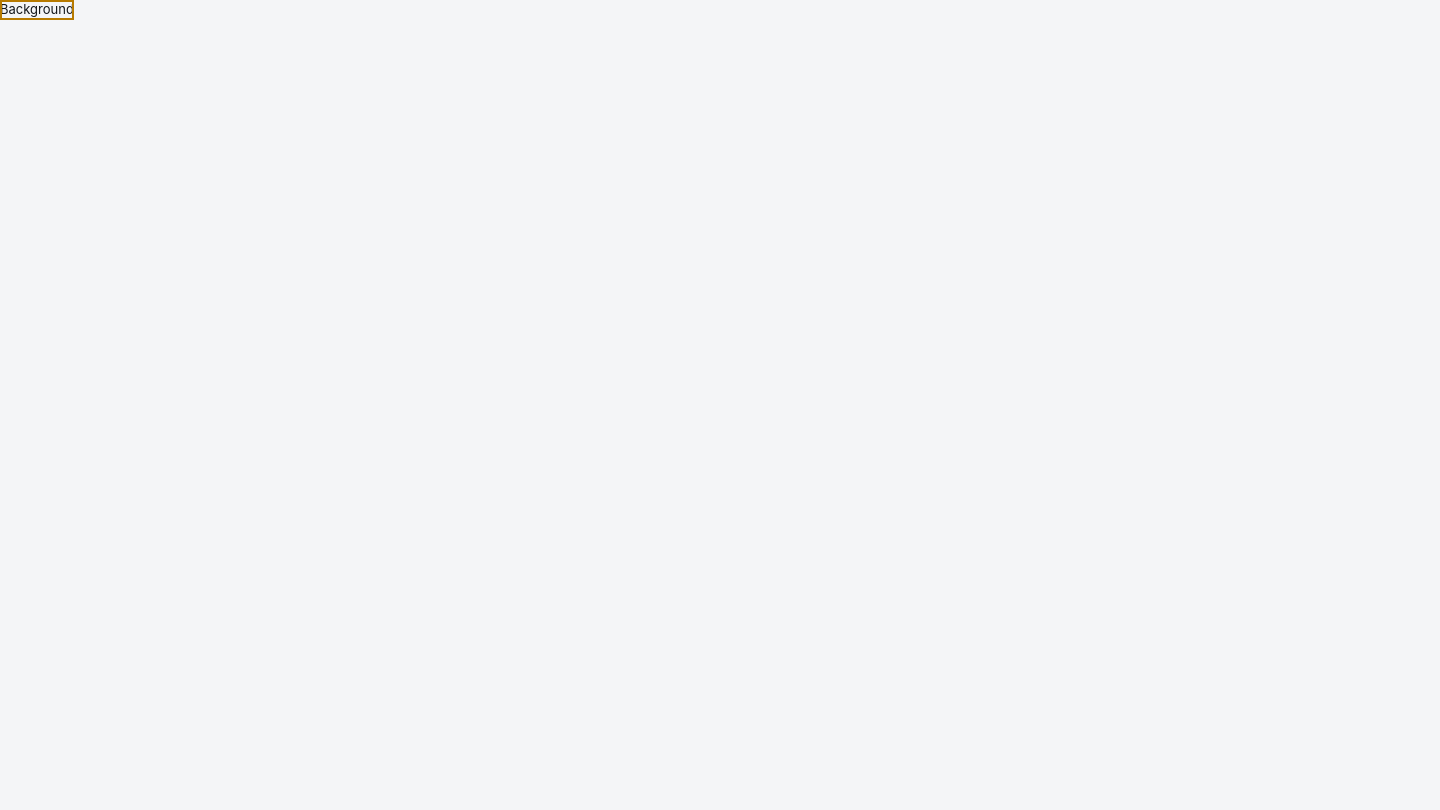
it: keyboard navigation › opens and searches the palette from the keyboard and returns focus on Escape
The image size is (1440, 810).
Press k
Press K
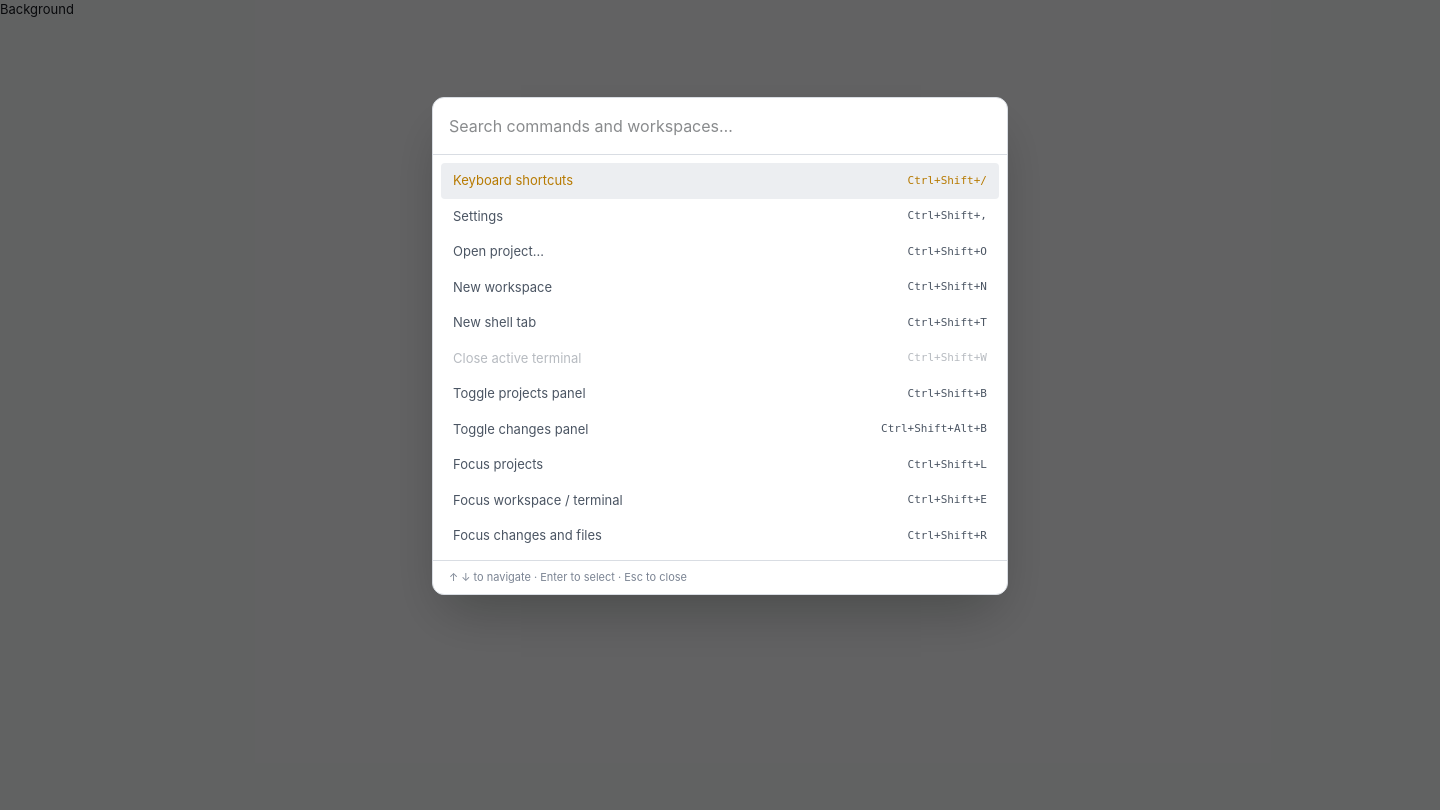
Type "demo" into the dropdown at coordinates (720, 127), box [433,98,1007,155]
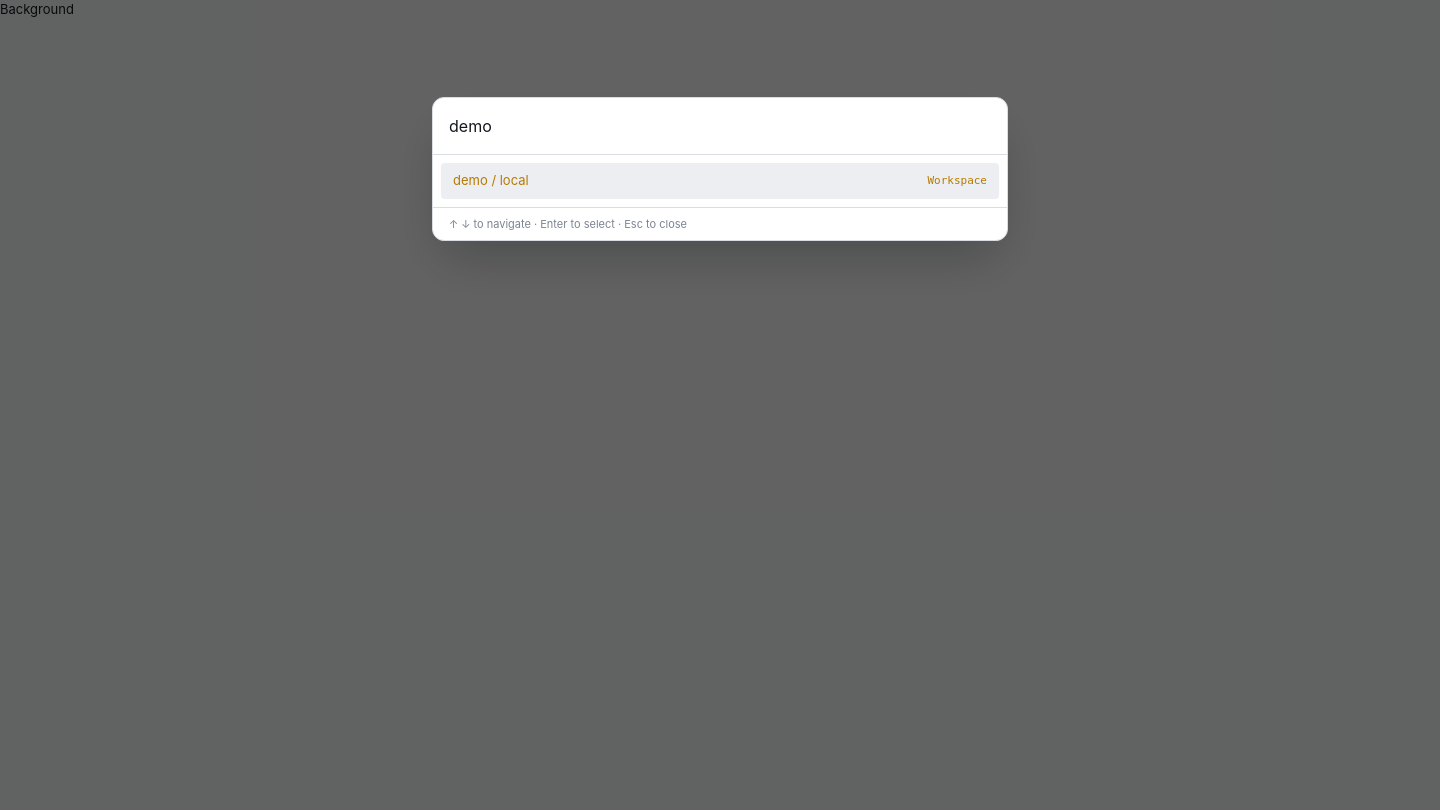
Check: the number of options is 1, box [441,163,999,199]
Press Enter
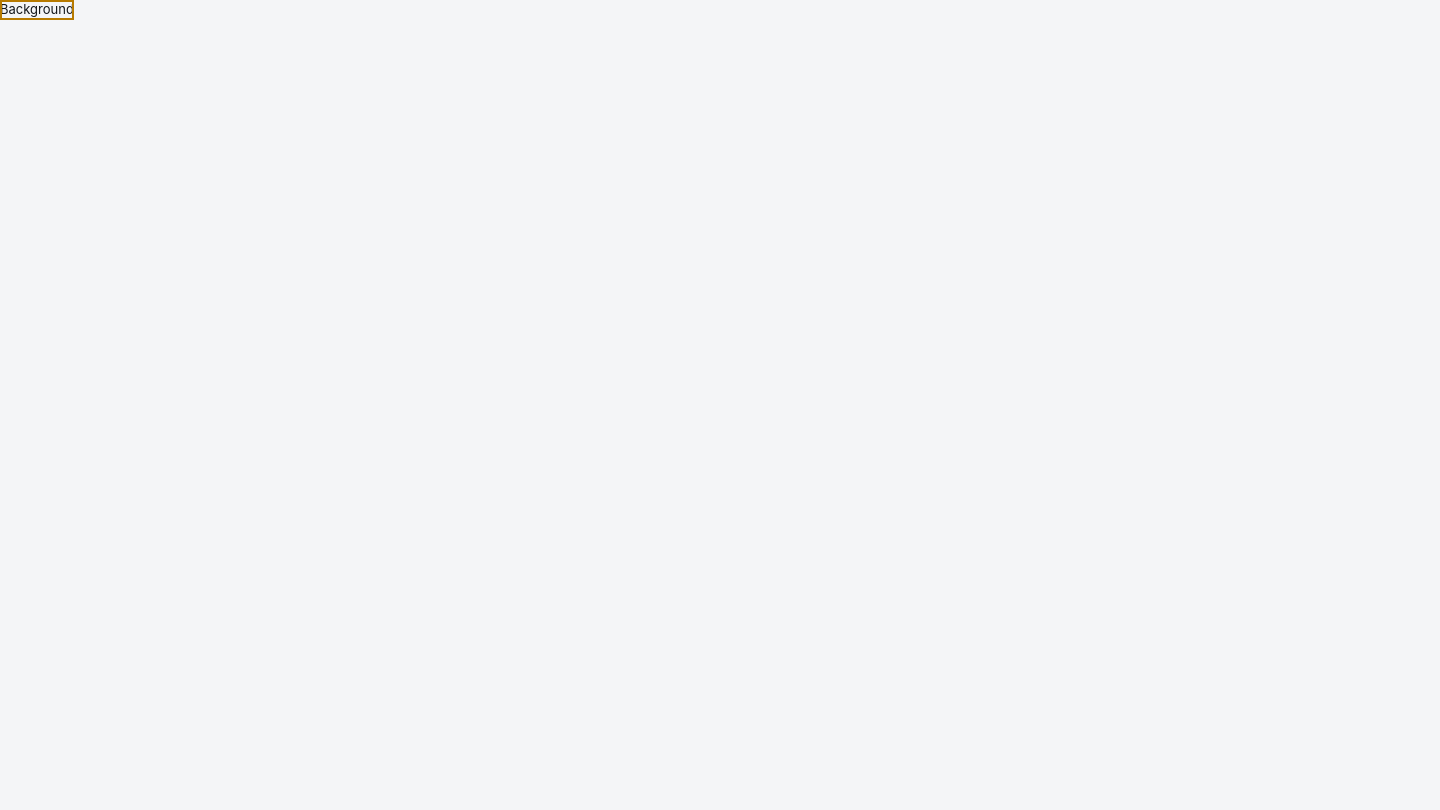
Press K
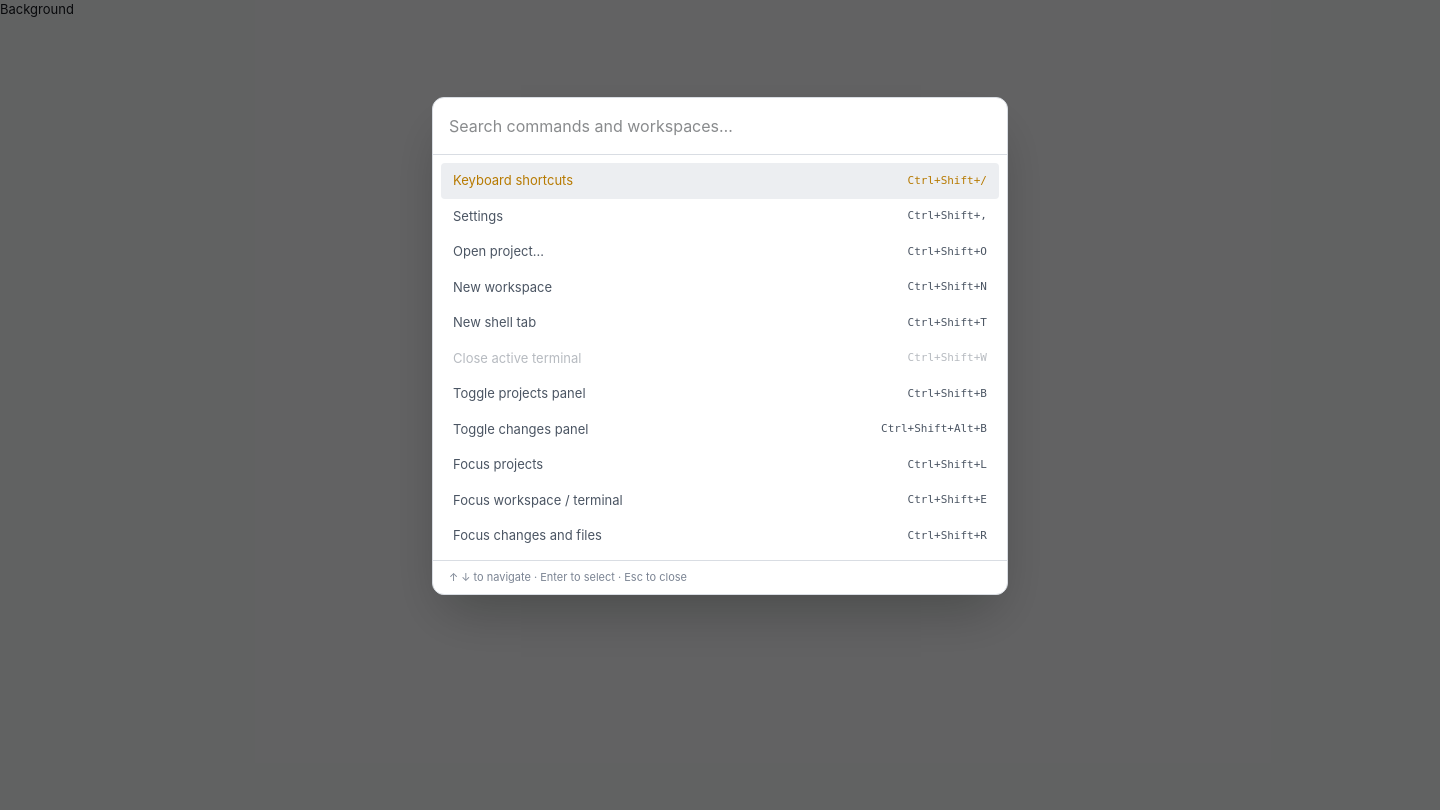
Press Escape
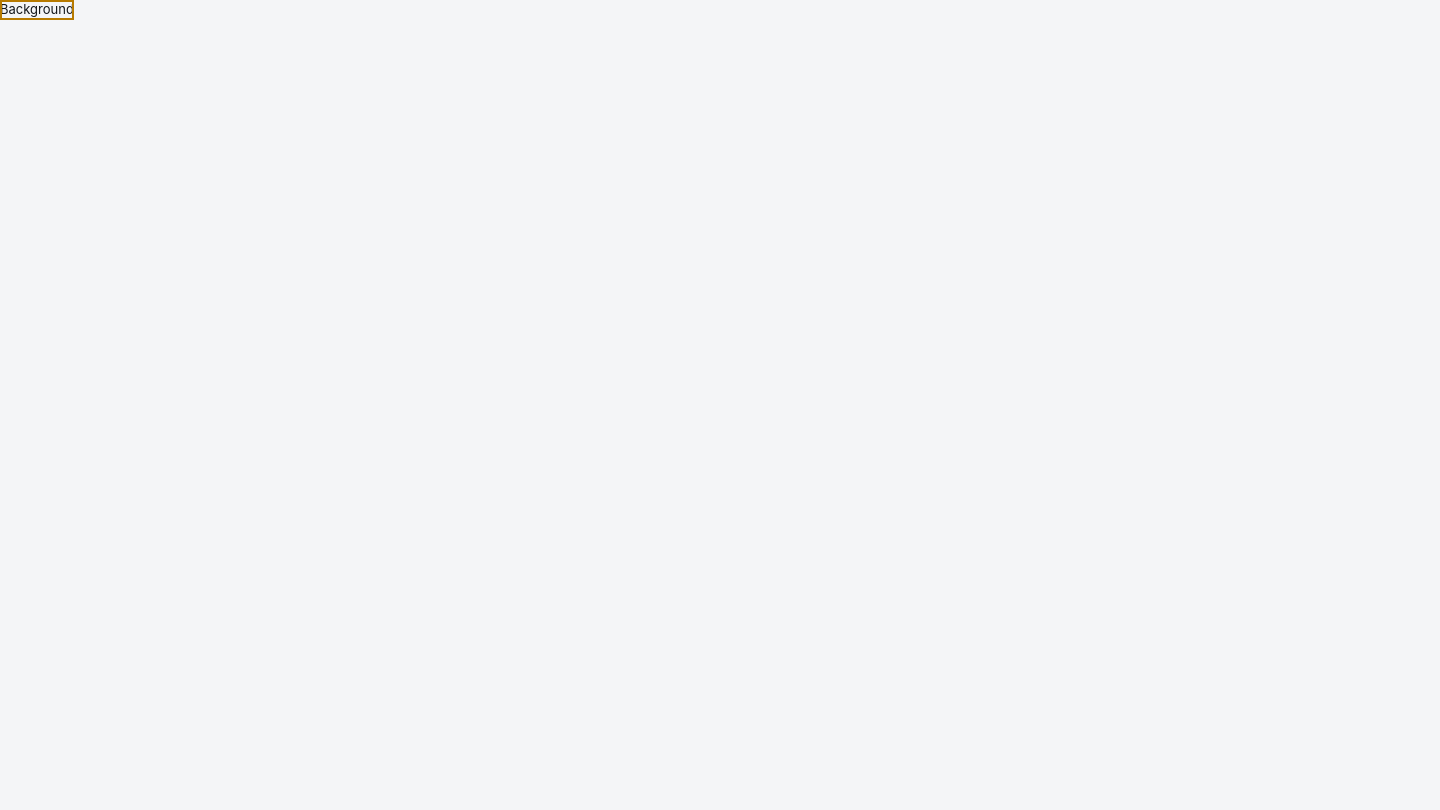
Check: the dialog is gone
